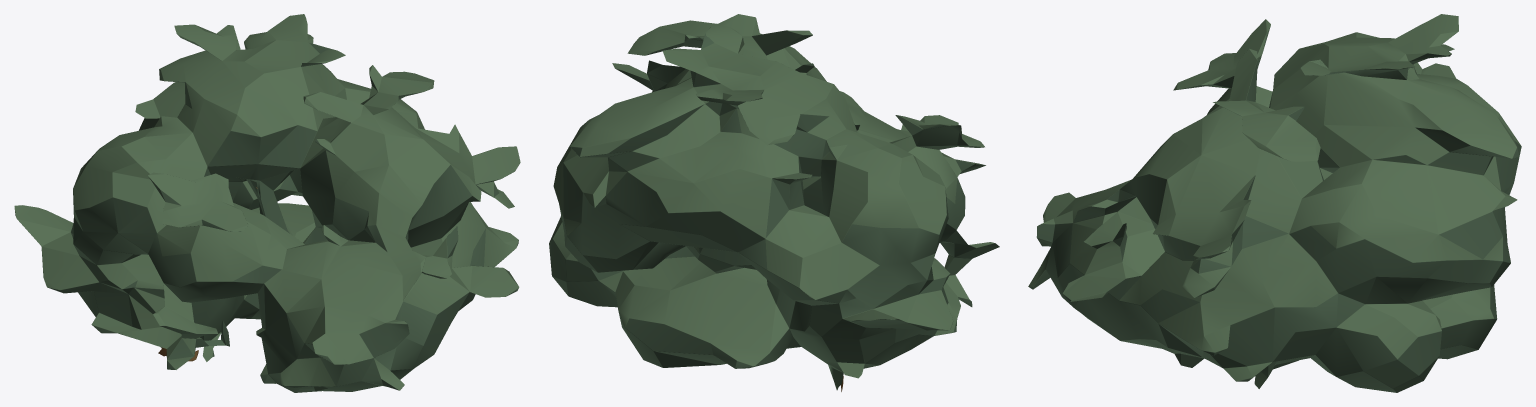
Rendered from prop_leafy_bush.glb.
3 views of the same model, side by side, from view 1: azimuth 30°, elevation 25°; view 2: azimuth 150°, elevation 25°; view 3: azimuth 270°, elevation 25° (orthographic). The views are drawn at different scales.
Visible parts, largest first — view 1: LeafCanopy; view 2: LeafCanopy; view 3: LeafCanopy.
Boxes of the visible parts, x1,y1,x2,y2 form: LeafCanopy: [14, 14, 520, 392]; LeafCanopy: [549, 14, 999, 390]; LeafCanopy: [1028, 14, 1521, 392].
Size of the model in its own units: 1.18 by 0.8567 by 1.16.
